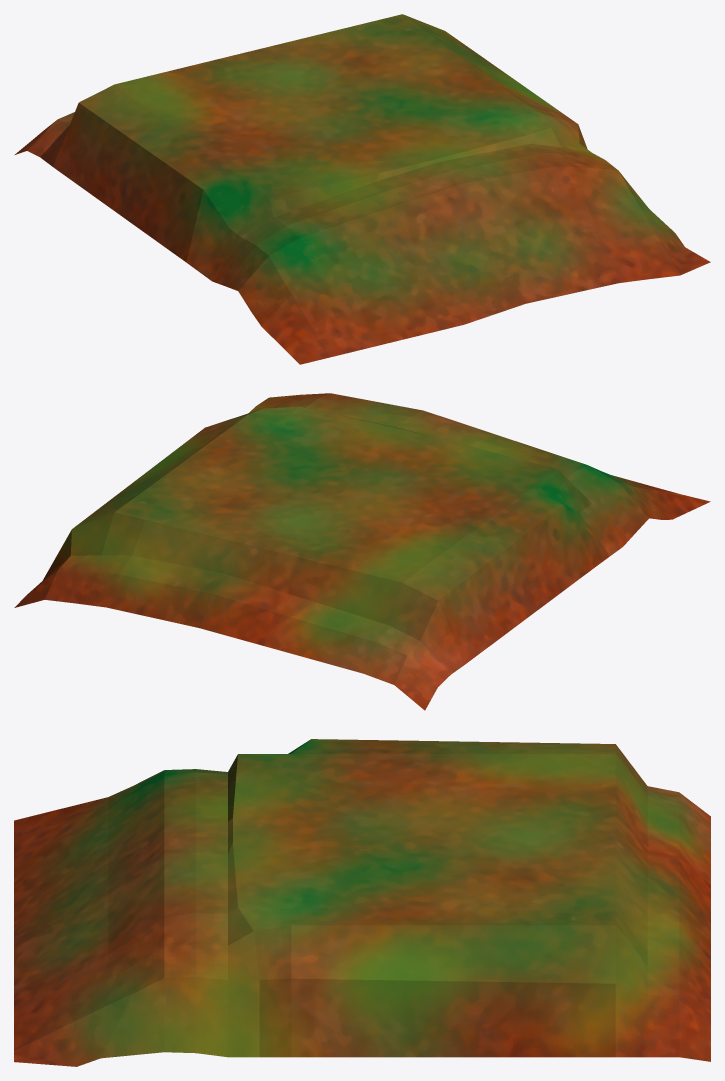
The model's file is Moutain_04.fbx.
3 views of the same model, one above another, from view 1: azimuth 30°, elevation 25°; view 2: azimuth 150°, elevation 25°; view 3: azimuth 270°, elevation 25° (orthographic). The views are drawn at different scales.
Parts seen in each view (by area): view 1: Moutain_04; view 2: Moutain_04; view 3: Moutain_04.
Boxes of the visible parts, x1,y1,x2,y2 form: Moutain_04: (15,14,710,364); Moutain_04: (14,393,710,710); Moutain_04: (14,739,710,1066).
Size of the model in its own units: 4933 by 1011 by 5944.
